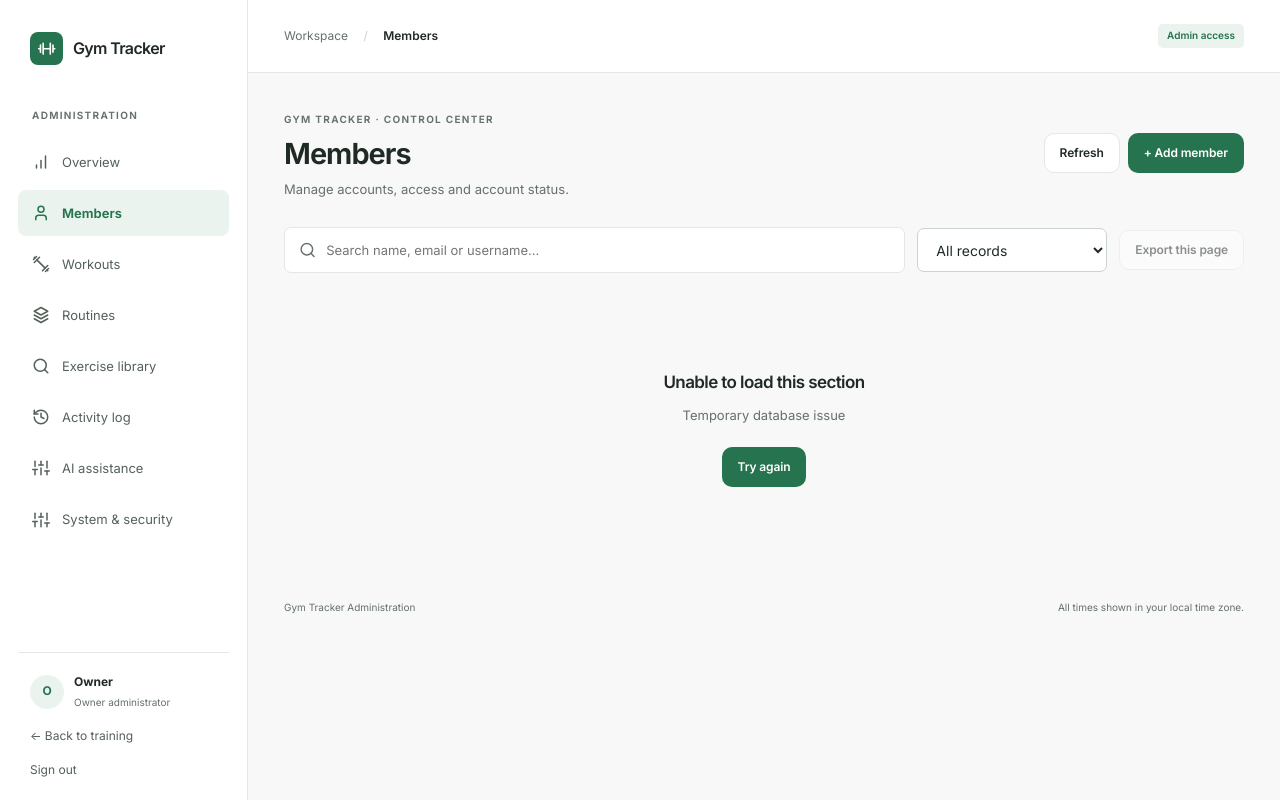
Scenario: keeps a failed request recoverable through retry
Expected: the text "Temporary database issue" is shown, [683,407,846,423]
Click the button "Try again" at (764, 467), box [722,447,806,487]
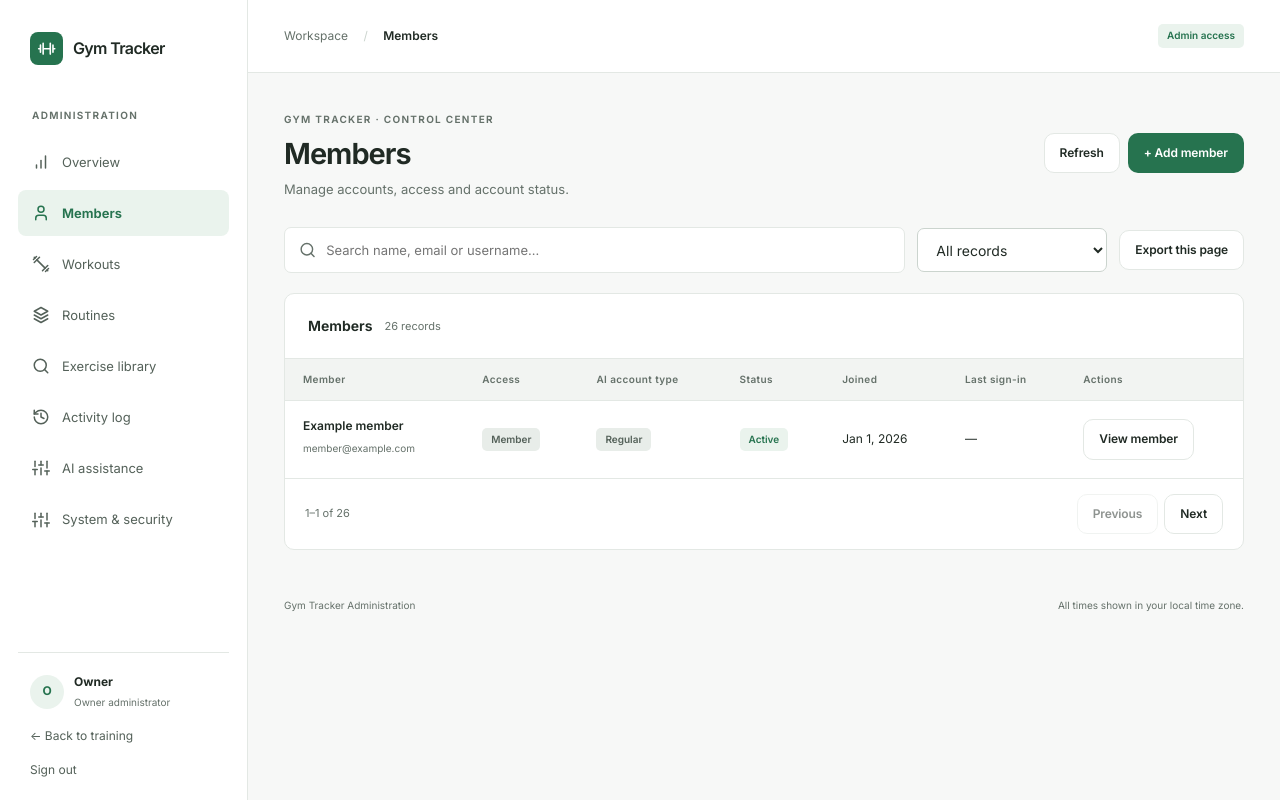
Expected: the text "Example member" is shown, [303,418,404,433]
